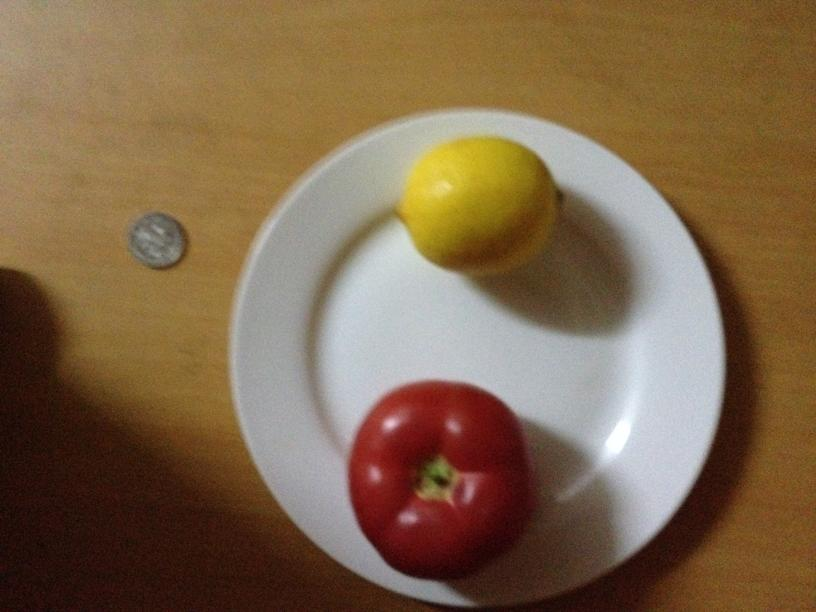coin: (127, 212, 187, 268)
lemon: (399, 135, 562, 269)
tomato: (347, 381, 536, 581)
